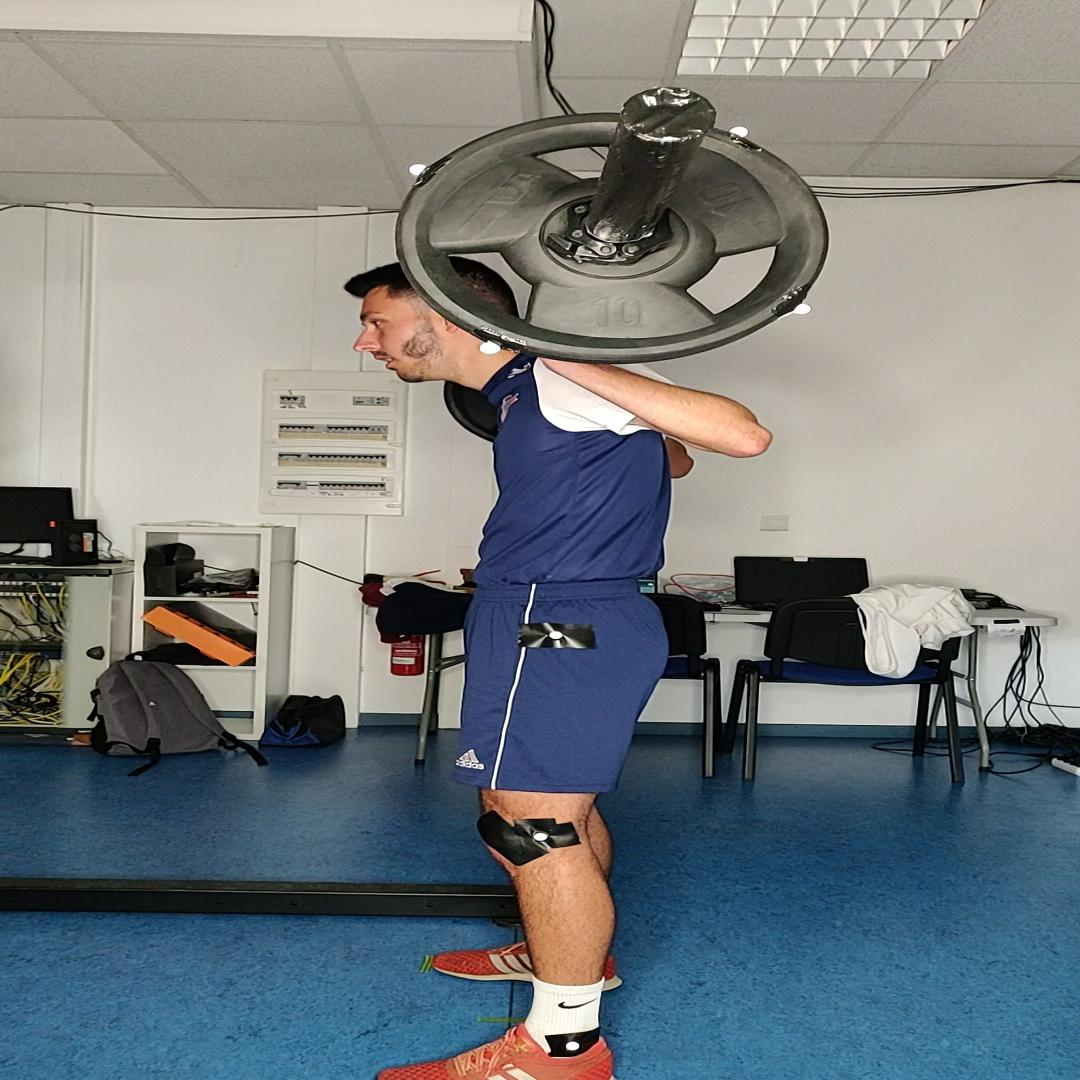Bar: (621, 88, 718, 142)
Barbell: (396, 112, 828, 364)
